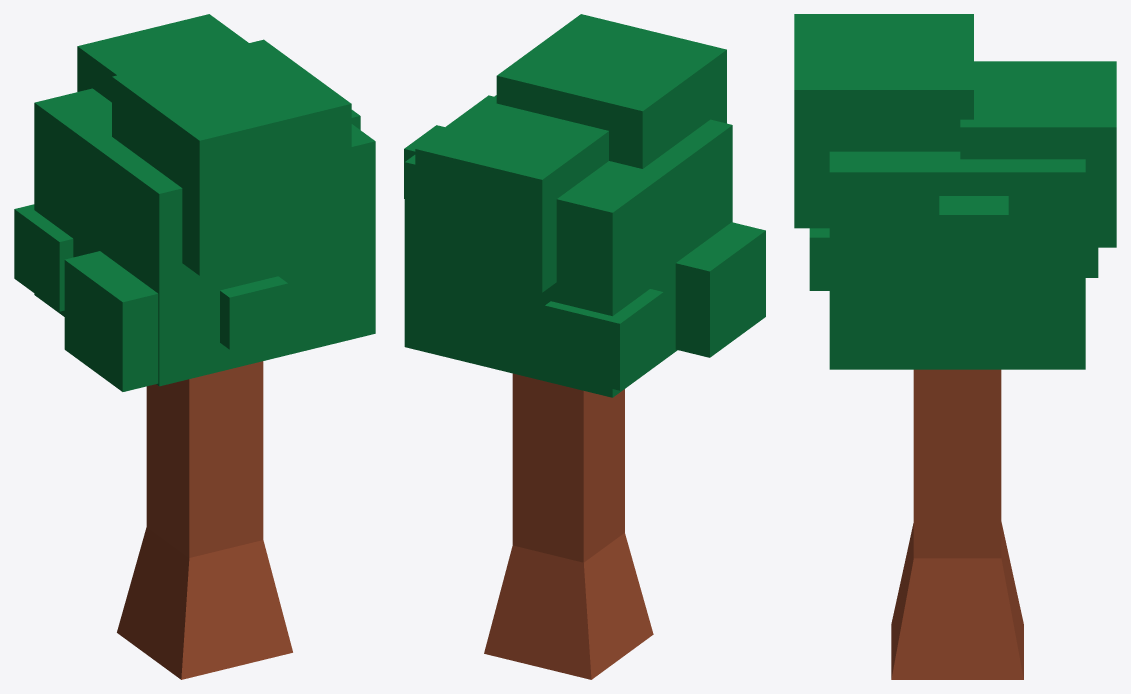
File: Three2.fbx
3 views of the same model, side by side, from view 1: azimuth 30°, elevation 25°; view 2: azimuth 150°, elevation 25°; view 3: azimuth 270°, elevation 25° (orthographic). The views are drawn at different scales.
Visible parts, largest first — view 1: Cube.009; view 2: Cube.009; view 3: Cube.009.
Boxes of the visible parts, x1,y1,x2,y2 form: Cube.009: (14,14,375,679); Cube.009: (404,14,765,679); Cube.009: (794,14,1116,679).
Size of the model in its own units: 6.26 by 11.98 by 5.88.
